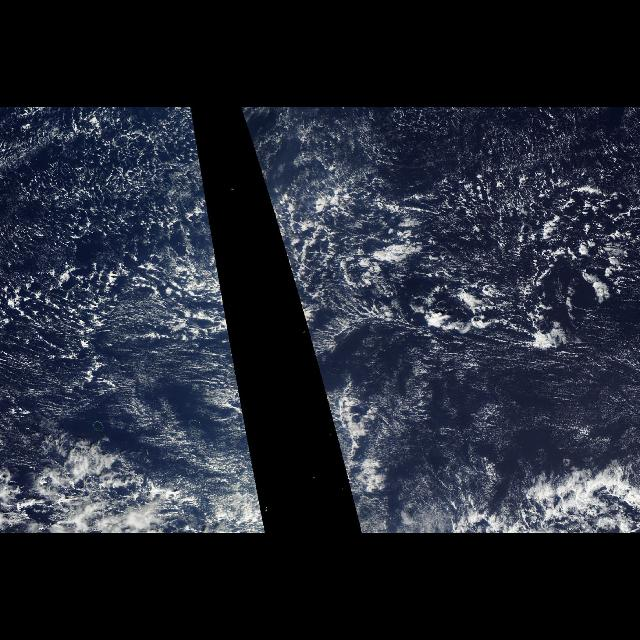Gravel: (242, 110, 640, 372), (4, 110, 236, 372)
Sugar: (310, 340, 640, 528), (4, 340, 268, 528)
